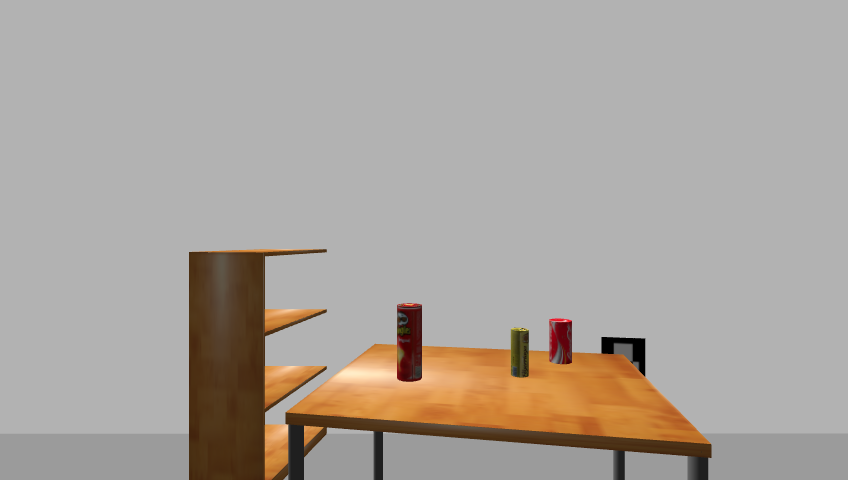aruco marker: (596, 335, 651, 380)
biscuits pack: (509, 327, 529, 379)
bookshelf: (183, 246, 335, 480)
coke can: (547, 318, 574, 366)
dinner table: (281, 343, 719, 480)
pringles can: (395, 303, 424, 384)
